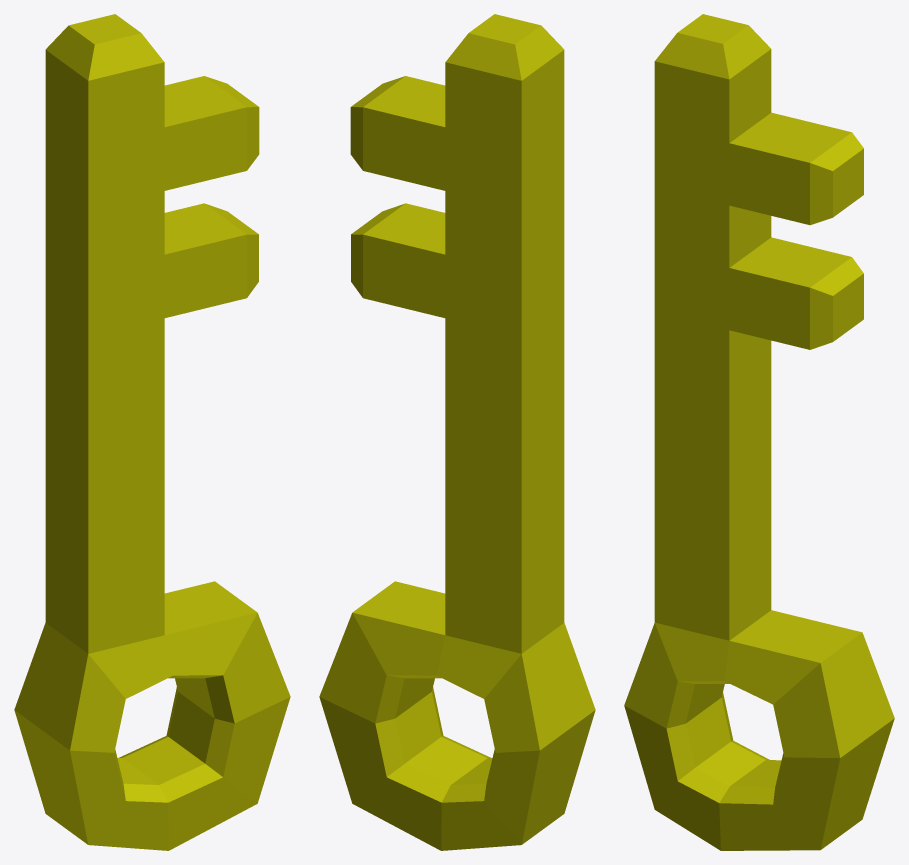
Rendered from key_yellow.glb.
3 views of the same model, side by side, from view 1: azimuth 30°, elevation 25°; view 2: azimuth 150°, elevation 25°; view 3: azimuth 330°, elevation 25° (orthographic). The views are drawn at different scales.
Parts seen in each view (by area): view 1: key_yellow; view 2: key_yellow; view 3: key_yellow.
Part boxes in pixels (bbox=[...]): key_yellow: bbox=[14, 14, 290, 850]; key_yellow: bbox=[319, 14, 595, 850]; key_yellow: bbox=[624, 14, 894, 850].
Bounding box in the file's own units: 0.604 × 2.12 × 0.2691.
1 material, 1 textured.
